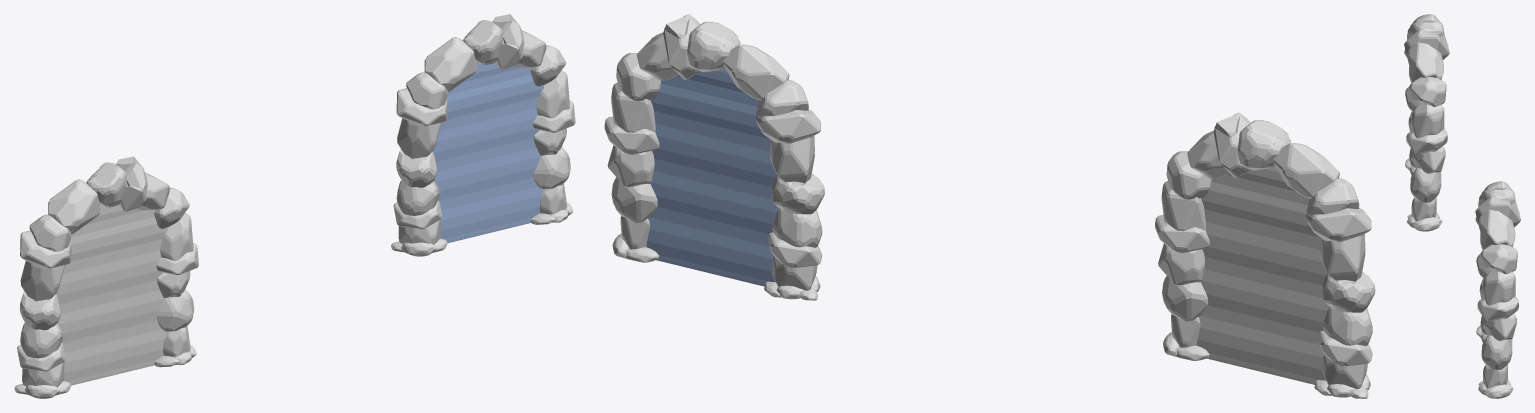
The model's file is portal.fbx.
3 renders of one model, left to right at view 1: azimuth 30°, elevation 25°; view 2: azimuth 150°, elevation 25°; view 3: azimuth 270°, elevation 25°, orthographic. The views are drawn at different scales.
Parts seen in each view (by area): view 1: Cube.002, Cube.001, Icosphere.036, Icosphere.017, Icosphere.037, Icosphere.018, Icosphere.020, Icosphere.039, Icosphere.023, Icosphere.035, Icosphere.044, Icosphere.016 (+24 smaller); view 2: Cube.002, Cube.001, Icosphere.036, Icosphere.017, Icosphere.039, Icosphere.020, Icosphere.018, Icosphere.037, Icosphere.022, Icosphere.043, Icosphere.035, Icosphere.016 (+24 smaller); view 3: Icosphere.011, Icosphere.003, Icosphere.004, Icosphere.012, Icosphere.013, Icosphere.005, Icosphere, Icosphere.001, Icosphere.044, Icosphere.023, Icosphere.009, Icosphere.041 (+12 smaller).
Part boxes in pixels (x1=…): Cube.002: x1=56, y1=204, x2=167, y2=385; Cube.001: x1=432, y1=62, x2=543, y2=243; Icosphere.036: x1=424, y1=37, x2=477, y2=91; Icosphere.017: x1=48, y1=179, x2=100, y2=234; Icosphere.037: x1=397, y1=118, x2=441, y2=158; Icosphere.018: x1=20, y1=261, x2=64, y2=301; Icosphere.020: x1=86, y1=162, x2=126, y2=207; Icosphere.039: x1=463, y1=20, x2=503, y2=64; Icosphere.023: x1=116, y1=156, x2=147, y2=211; Icosphere.035: x1=396, y1=149, x2=437, y2=187; Icosphere.044: x1=492, y1=14, x2=524, y2=69; Icosphere.016: x1=19, y1=291, x2=60, y2=330; Cube.002: x1=1197, y1=166, x2=1329, y2=384; Cube.001: x1=646, y1=68, x2=779, y2=286; Icosphere.036: x1=723, y1=44, x2=789, y2=100; Icosphere.017: x1=1273, y1=143, x2=1339, y2=198; Icosphere.039: x1=687, y1=21, x2=740, y2=72; Icosphere.020: x1=1237, y1=120, x2=1290, y2=170; Icosphere.018: x1=1320, y1=234, x2=1365, y2=281; Icosphere.037: x1=769, y1=136, x2=814, y2=183; Icosphere.022: x1=1306, y1=208, x2=1371, y2=242; Icosphere.043: x1=756, y1=109, x2=820, y2=143; Icosphere.035: x1=771, y1=173, x2=824, y2=214; Icosphere.016: x1=1322, y1=272, x2=1375, y2=312; Icosphere.011: x1=1407, y1=42, x2=1443, y2=80; Icosphere.003: x1=1478, y1=210, x2=1515, y2=247; Icosphere.004: x1=1482, y1=270, x2=1515, y2=305; Icosphere.012: x1=1411, y1=103, x2=1444, y2=138; Icosphere.013: x1=1409, y1=77, x2=1446, y2=106; Icosphere.005: x1=1480, y1=244, x2=1517, y2=273; Icosphere: x1=1410, y1=167, x2=1441, y2=202; Icosphere.001: x1=1481, y1=335, x2=1512, y2=369; Icosphere.044: x1=1475, y1=195, x2=1520, y2=227; Icosphere.023: x1=1404, y1=28, x2=1449, y2=59; Icosphere.009: x1=1406, y1=129, x2=1447, y2=153; Icosphere.041: x1=1478, y1=296, x2=1518, y2=320.
Bounding box in the file's own units: 97.15 × 34.22 × 19.08.
